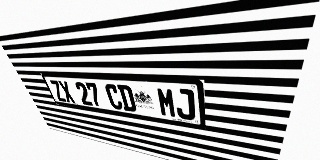2: (74, 82, 93, 106)
7: (84, 82, 104, 107)
C: (104, 84, 124, 110)
D: (117, 84, 137, 112)
J: (174, 88, 195, 121)
M: (156, 87, 177, 118)
X: (57, 81, 76, 103)
Z: (49, 80, 67, 102)
